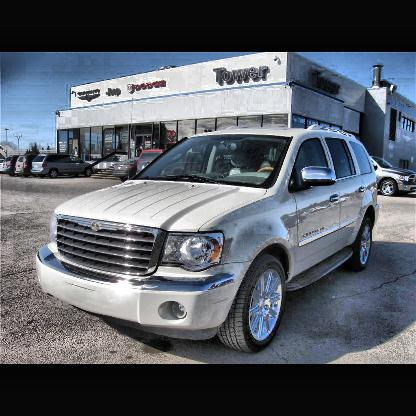Chrysler Aspen SUV 2009: (31, 126, 381, 356)
